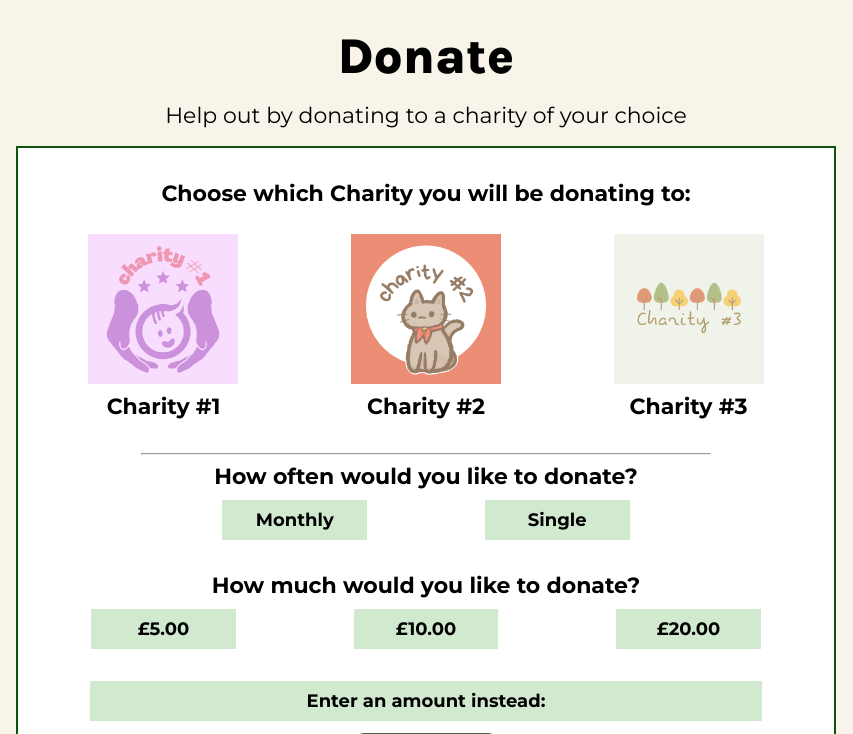
should return an error if the user hasn't selected the amount of money being donated
Click the radio button labelled "Charity #1" at (163, 327), box [88,234,238,420]
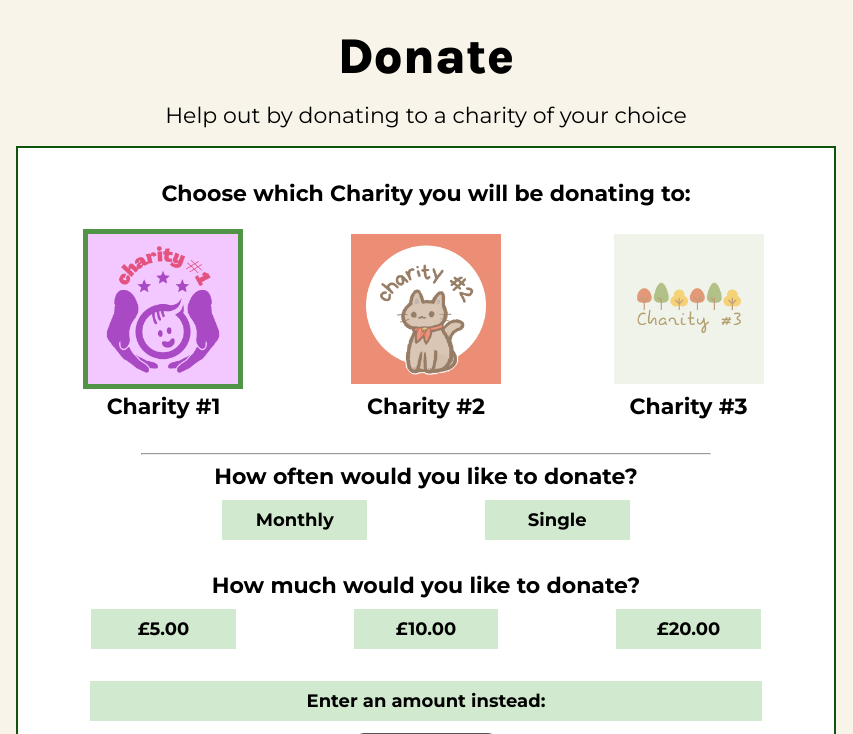
Click the radio button labelled "Single" at (557, 520), box [485,500,630,540]
(page scrolled)
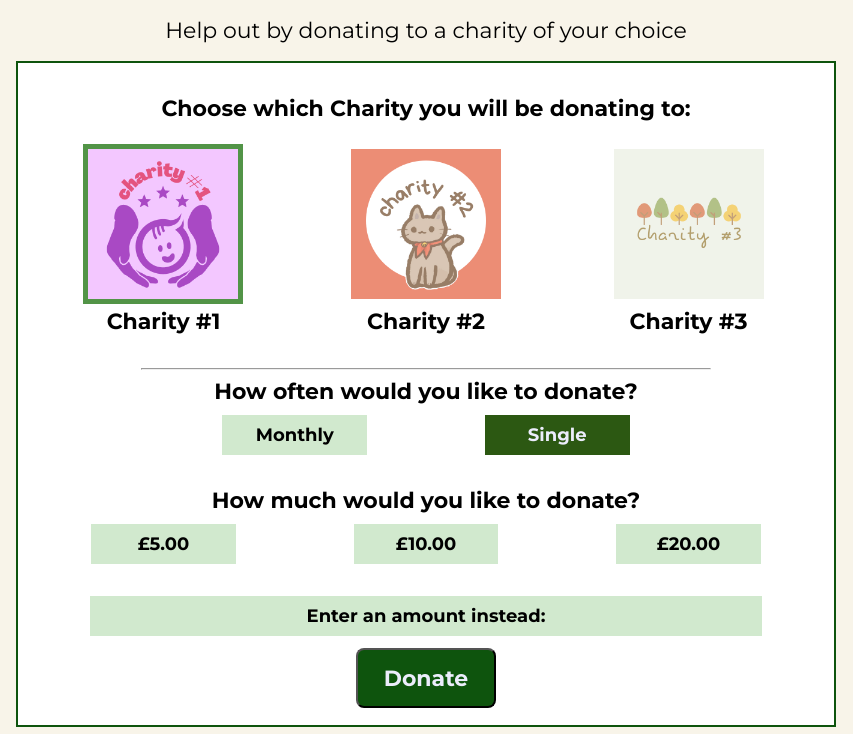
Submit the form from the button "Donate", box [356,648,496,708]
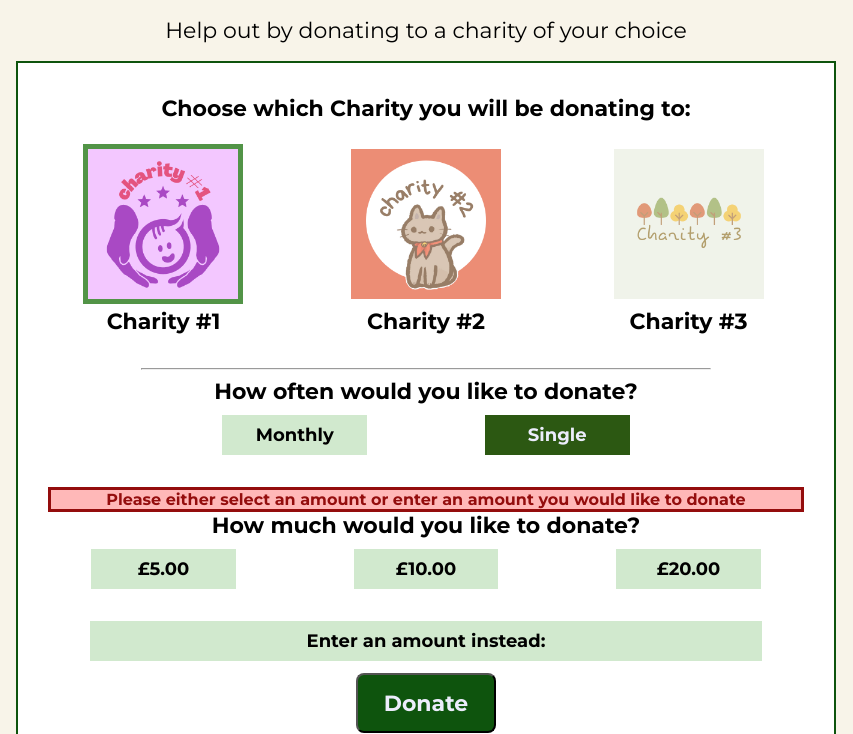
Result: the text "Please either select an amount or enter an amount you would like to donate" is shown at [48,487,804,512]
